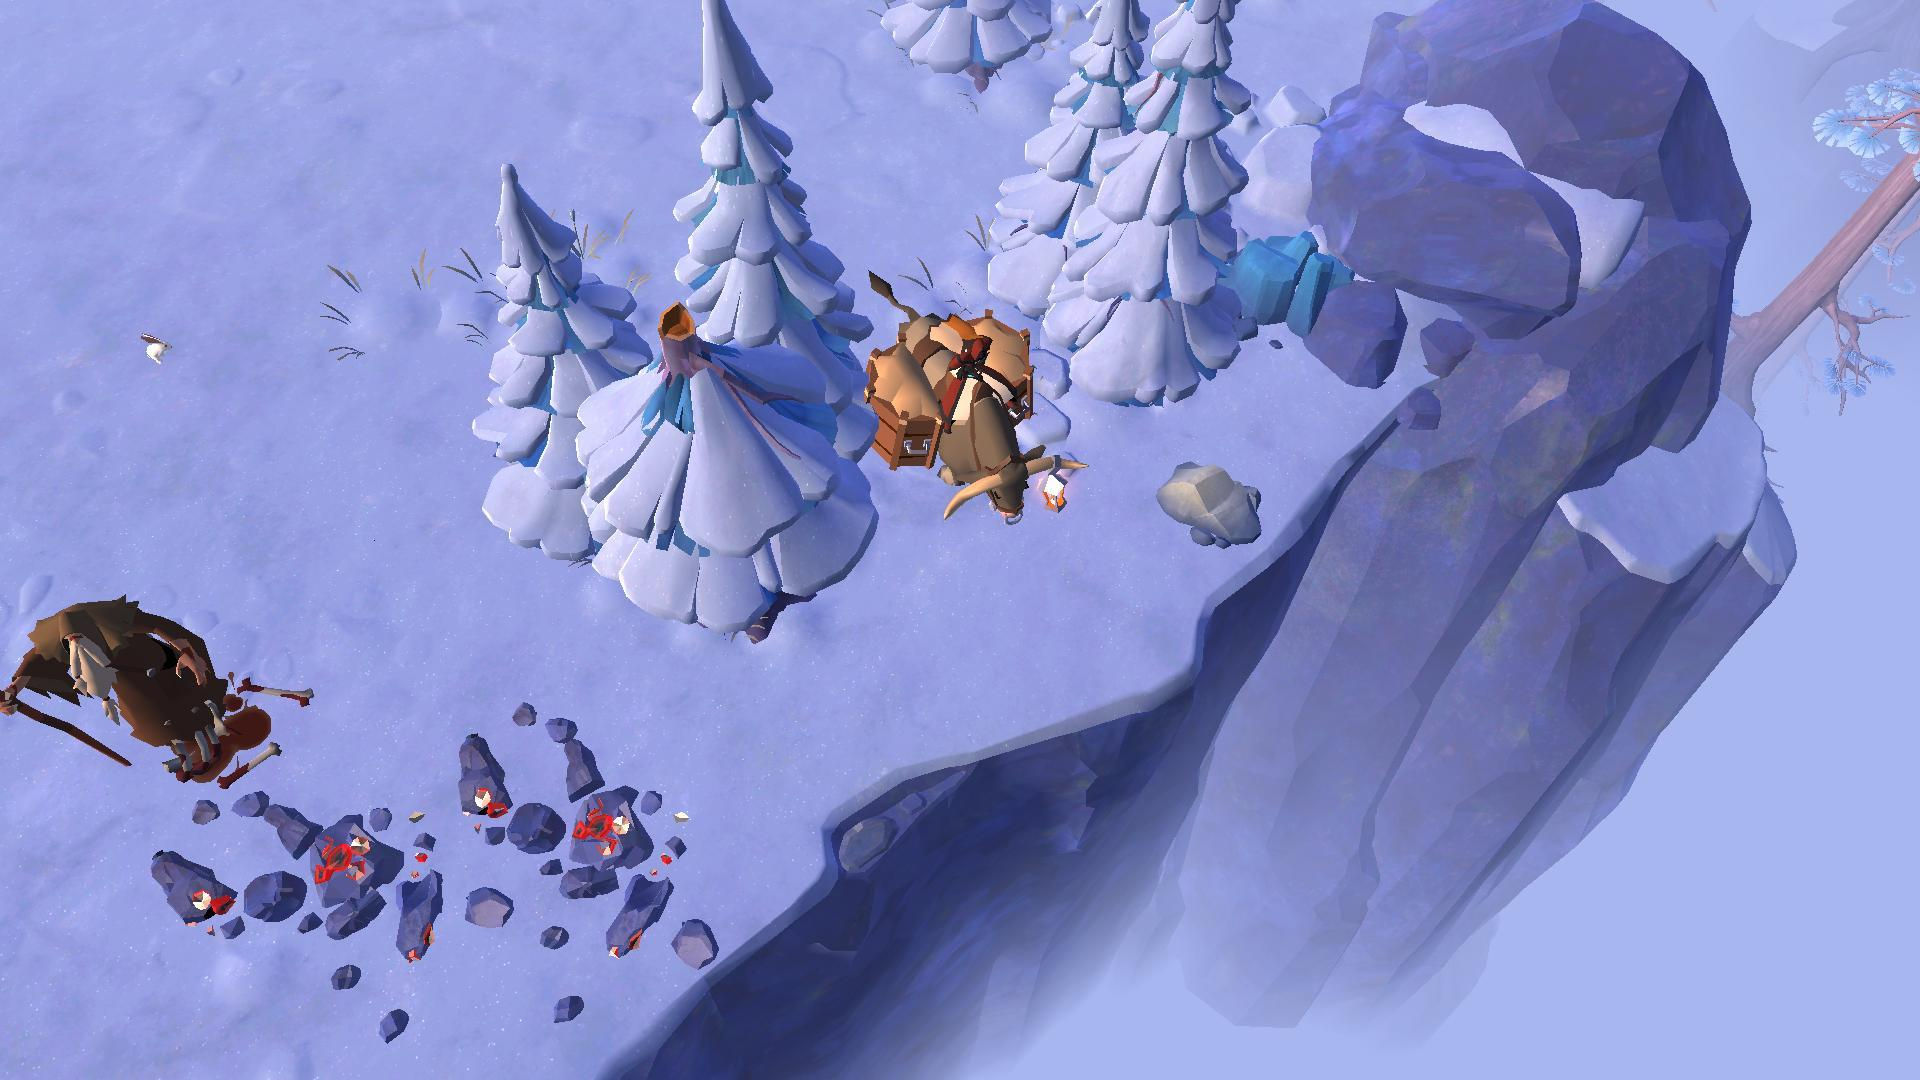enemy_factionKeeper: (3, 588, 266, 790)
rock_t4: (1220, 222, 1354, 344)
